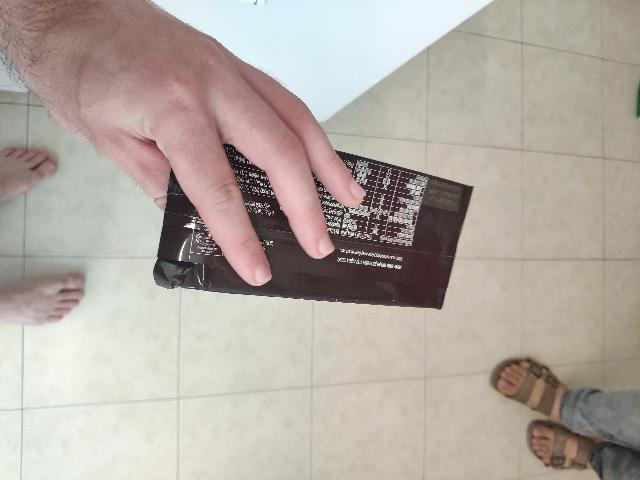chocolate: (272, 155, 477, 480)
